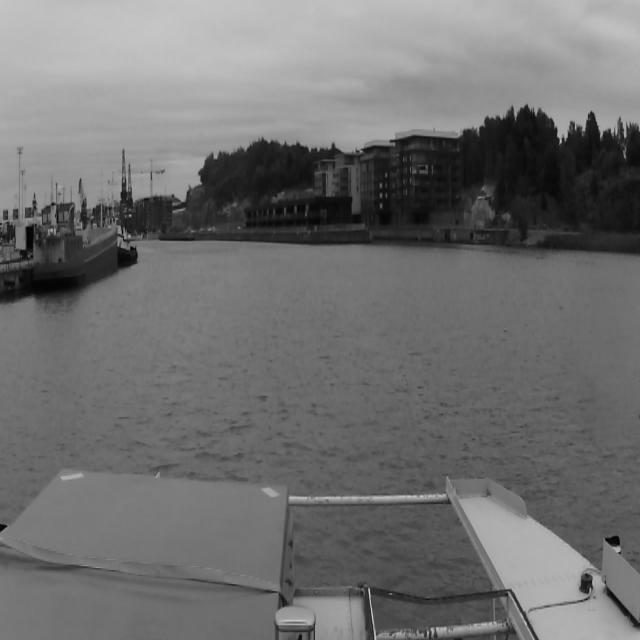ship: (31, 182, 117, 299)
